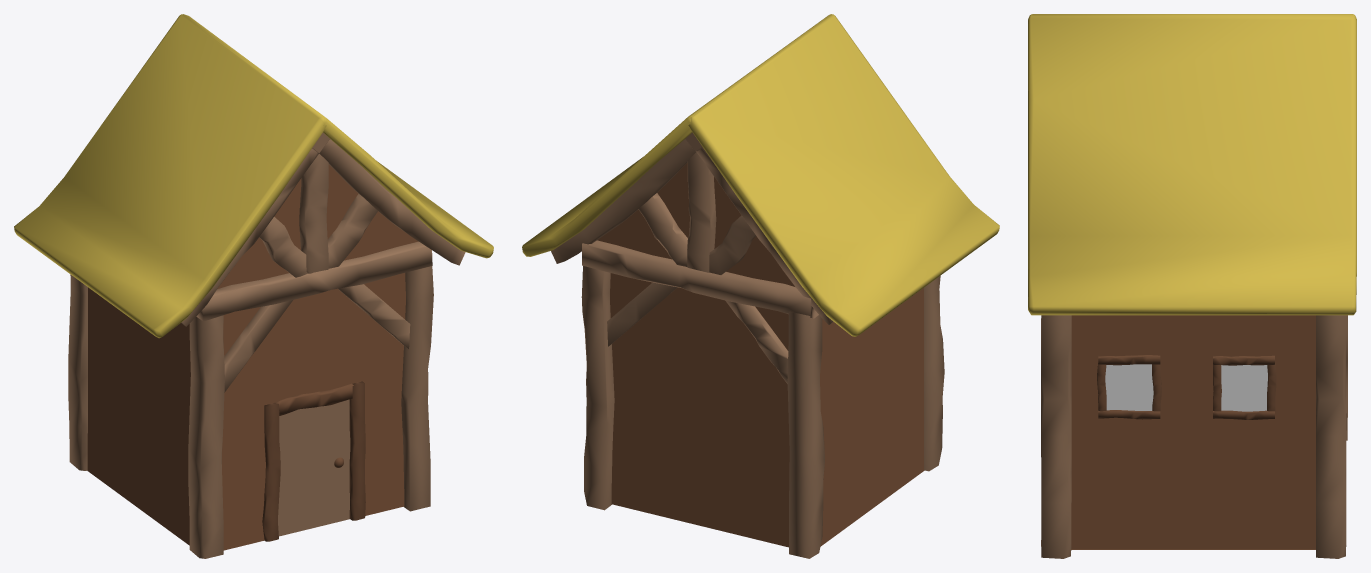
File: FarmerHouse.fbx
The picture shows the model from 3 angles, left to right: view 1: azimuth 30°, elevation 25°; view 2: azimuth 150°, elevation 25°; view 3: azimuth 270°, elevation 25°; orthographic projection. The views are drawn at different scales.
Parts seen in each view (by area): view 1: Roof2, Wall_front, Wall_left, Door, HousePillar, HousePillar2, HousePillar5, Roof, HousePillar.001, HousePillar2.003, HousePillar2.005, DoorFrame.001 (+7 smaller); view 2: Roof2, Wall_back, Wall_left, HousePillar.001, HousePillar2.008, HousePillar5.001, Roof, HousePillar2.009, HousePillar, HousePillar2.011, HousePillar2.012, HousePillar2.016 (+3 smaller); view 3: Roof, Wall_right, HousePillar2, HousePillar2.008, Window2, Window, Roof2, WindowFrame.003, WindowFrame.007, WindowFrame.008, WindowFrame.004, WindowFrame.006 (+3 smaller).
Part boxes in pixels (bbox=[...]): Roof2: bbox=[14, 14, 326, 338]; Wall_front: bbox=[217, 164, 418, 550]; Wall_left: bbox=[87, 287, 190, 545]; Door: bbox=[278, 399, 350, 536]; HousePillar: bbox=[188, 315, 224, 558]; HousePillar2: bbox=[401, 266, 433, 511]; HousePillar5: bbox=[196, 241, 432, 321]; Roof: bbox=[183, 14, 493, 258]; HousePillar.001: bbox=[68, 274, 87, 470]; HousePillar2.003: bbox=[319, 139, 465, 265]; HousePillar2.005: bbox=[299, 153, 328, 273]; DoorFrame.001: bbox=[349, 381, 365, 520]; Roof2: bbox=[688, 14, 999, 336]; Wall_back: bbox=[597, 163, 794, 547]; Wall_left: bbox=[820, 288, 924, 546]; HousePillar.001: bbox=[787, 311, 824, 558]; HousePillar2.008: bbox=[581, 266, 614, 510]; HousePillar5.001: bbox=[582, 240, 818, 318]; Roof: bbox=[522, 14, 831, 256]; HousePillar2.009: bbox=[551, 139, 696, 263]; HousePillar: bbox=[924, 276, 944, 471]; HousePillar2.011: bbox=[687, 152, 716, 272]; HousePillar2.012: bbox=[638, 193, 687, 266]; HousePillar2.016: bbox=[725, 300, 788, 383]; Roof: bbox=[1028, 15, 1356, 315]; Wall_right: bbox=[1071, 315, 1315, 549]; HousePillar2: bbox=[1041, 315, 1071, 558]; HousePillar2.008: bbox=[1316, 315, 1346, 558]; Window2: bbox=[1105, 364, 1153, 410]; Window: bbox=[1221, 365, 1267, 411]; Roof2: bbox=[1028, 14, 1356, 20]; WindowFrame.003: bbox=[1098, 355, 1160, 365]; WindowFrame.007: bbox=[1213, 355, 1274, 365]; WindowFrame.008: bbox=[1213, 410, 1274, 419]; WindowFrame.004: bbox=[1098, 410, 1160, 419]; WindowFrame.006: bbox=[1152, 363, 1161, 411].
Size of the model in its own units: 276 by 327 by 202.
